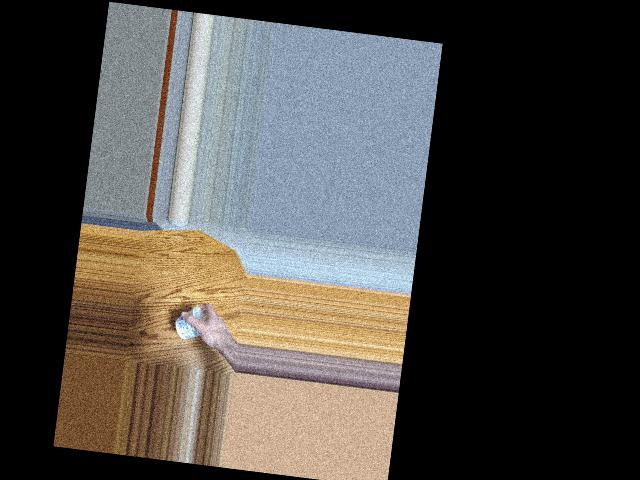cotage: (176, 304, 212, 346)
